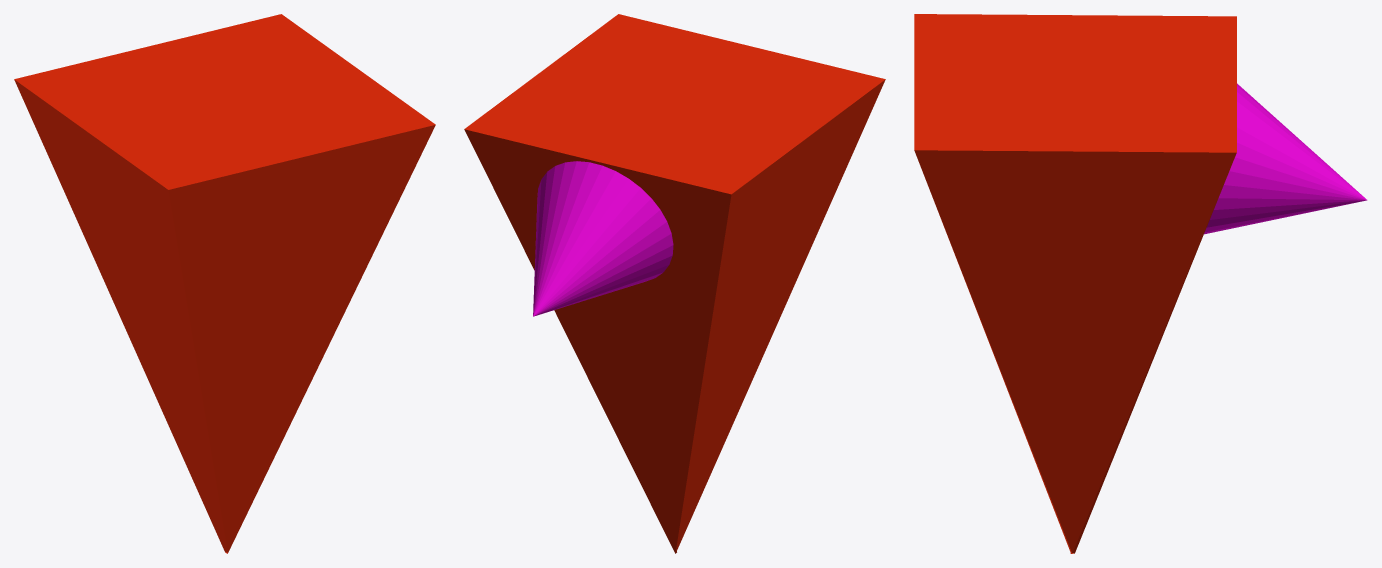
File: pizza.glb
3 renders of one model, left to right at view 1: azimuth 30°, elevation 25°; view 2: azimuth 150°, elevation 25°; view 3: azimuth 270°, elevation 25°, orthographic. The views are drawn at different scales.
Parts seen in each view (by area): view 1: Cube; view 2: Cube, Cone; view 3: Cube, Cone.
Boxes of the visible parts, <box> form: Cube: <box>14,14,435,553</box>; Cube: <box>464,14,885,553</box>; Cone: <box>533,161,673,316</box>; Cube: <box>914,14,1236,553</box>; Cone: <box>1204,83,1367,234</box>.
Size of the model in its own units: 2 by 3.23 by 2.81.
